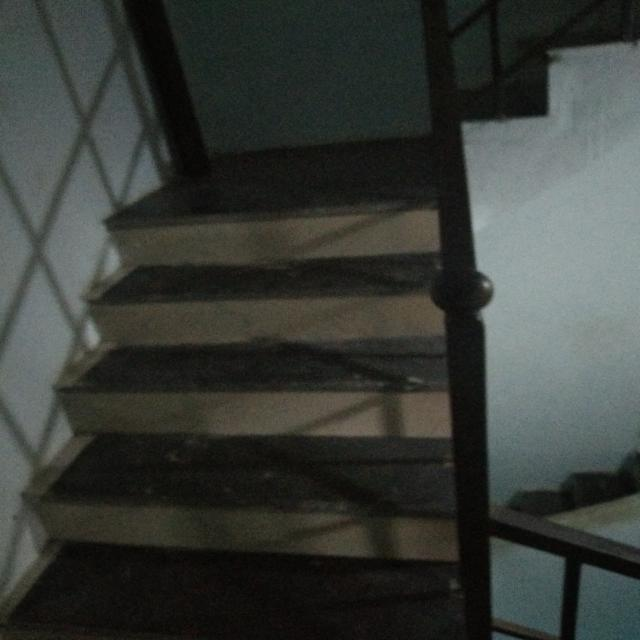Stairs: (26, 57, 546, 621)
